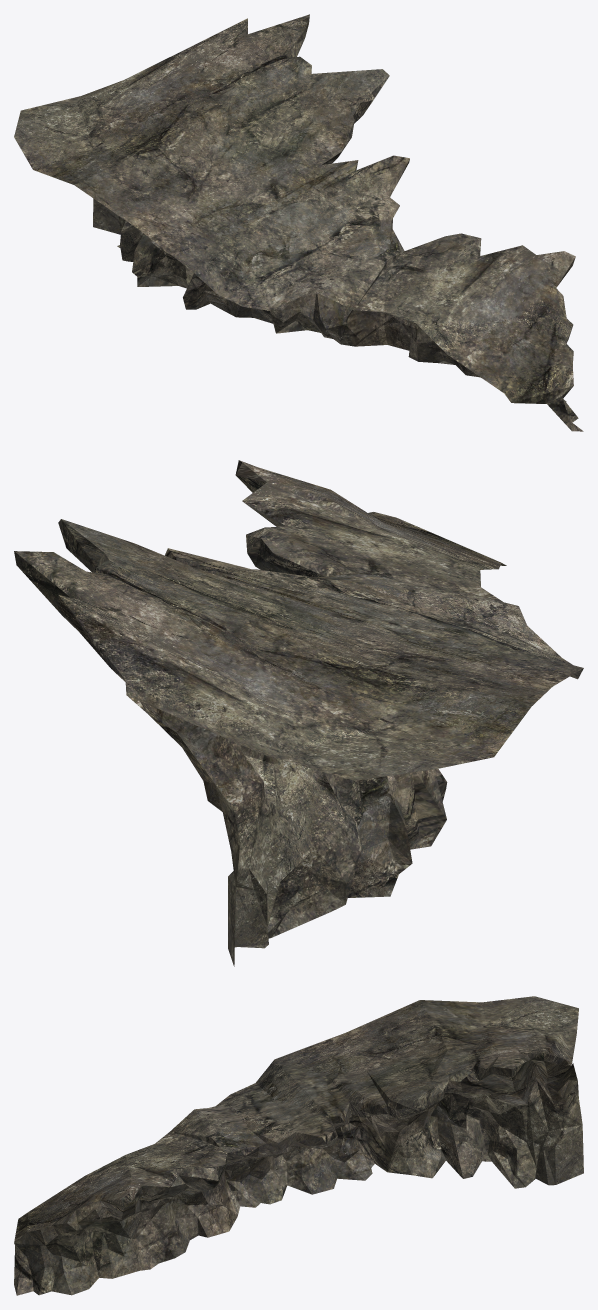
File: RockWall4.fbx
3 renders of one model, top to bottom at view 1: azimuth 30°, elevation 25°; view 2: azimuth 150°, elevation 25°; view 3: azimuth 270°, elevation 25°, orthographic. The views are drawn at different scales.
Visible parts, largest first — view 1: LV_NSaltus_Rock_CrystalRock01_SM_KBE; view 2: LV_NSaltus_Rock_CrystalRock01_SM_KBE; view 3: LV_NSaltus_Rock_CrystalRock01_SM_KBE.
Boxes of the visible parts, left/top/right/bottom form: LV_NSaltus_Rock_CrystalRock01_SM_KBE: left=14, top=14, right=583, bottom=431; LV_NSaltus_Rock_CrystalRock01_SM_KBE: left=14, top=460, right=583, bottom=966; LV_NSaltus_Rock_CrystalRock01_SM_KBE: left=14, top=996, right=583, bottom=1295.
Size of the model in its own units: 12.93 by 8.06 by 18.94.
Materials: 1 (1 with a texture image).
